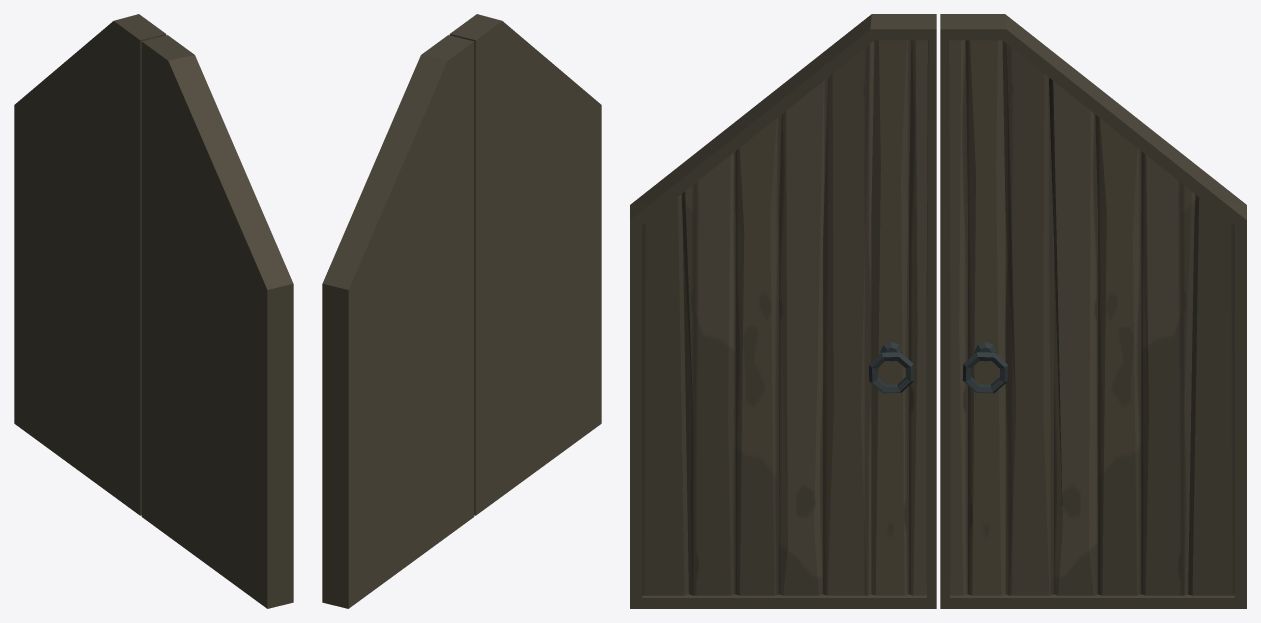
File: Gate.fbx
The picture shows the model from 3 angles, left to right: view 1: azimuth 30°, elevation 25°; view 2: azimuth 150°, elevation 25°; view 3: azimuth 270°, elevation 25°; orthographic projection. The views are drawn at different scales.
Visible parts, largest first — view 1: Gate; view 2: Gate; view 3: Gate.
Part boxes in pixels (x1=…): Gate: x1=14, y1=14, x2=293, y2=608; Gate: x1=322, y1=14, x2=601, y2=608; Gate: x1=630, y1=14, x2=1246, y2=608.
Size of the model in its own units: 33.97 by 502 by 484.
